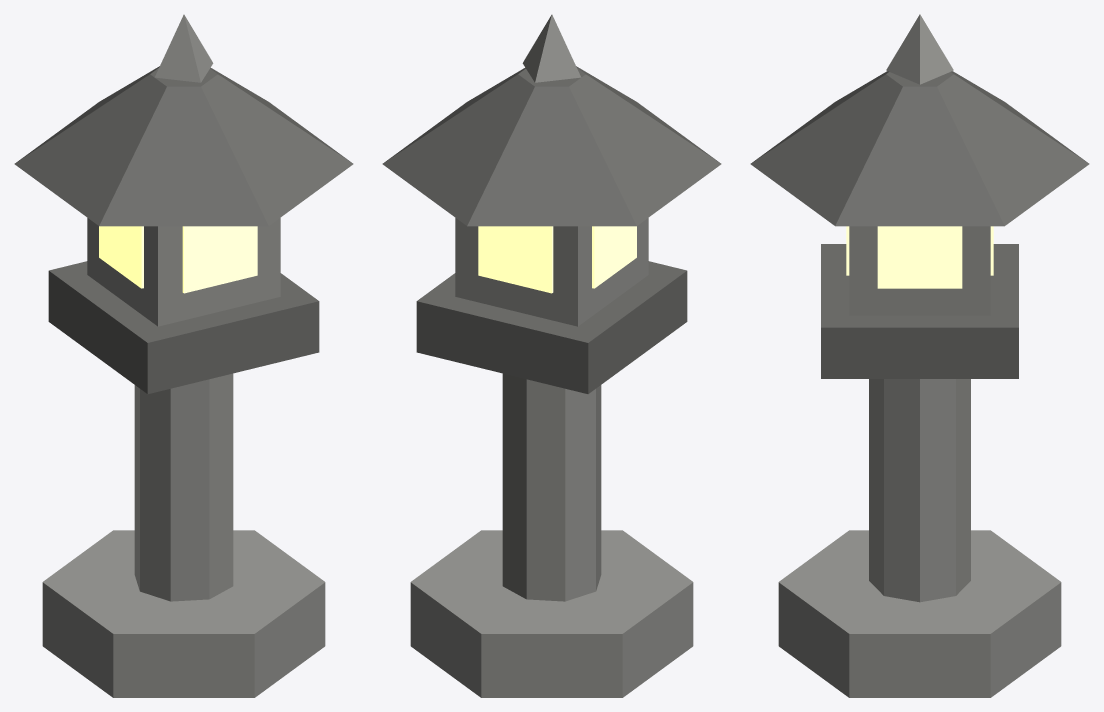
The model's file is stenlykta.glb.
3 renders of one model, left to right at view 1: azimuth 30°, elevation 25°; view 2: azimuth 150°, elevation 25°; view 3: azimuth 270°, elevation 25°, orthographic.
Visible parts, largest first — view 1: stenlykta; view 2: stenlykta; view 3: stenlykta.
Boxes of the visible parts, x1,y1,x2,y2 form: stenlykta: (14, 14, 353, 697); stenlykta: (382, 14, 721, 697); stenlykta: (750, 14, 1089, 697).
Bounding box in the file's own units: 1.04 × 2.46 × 1.2.
